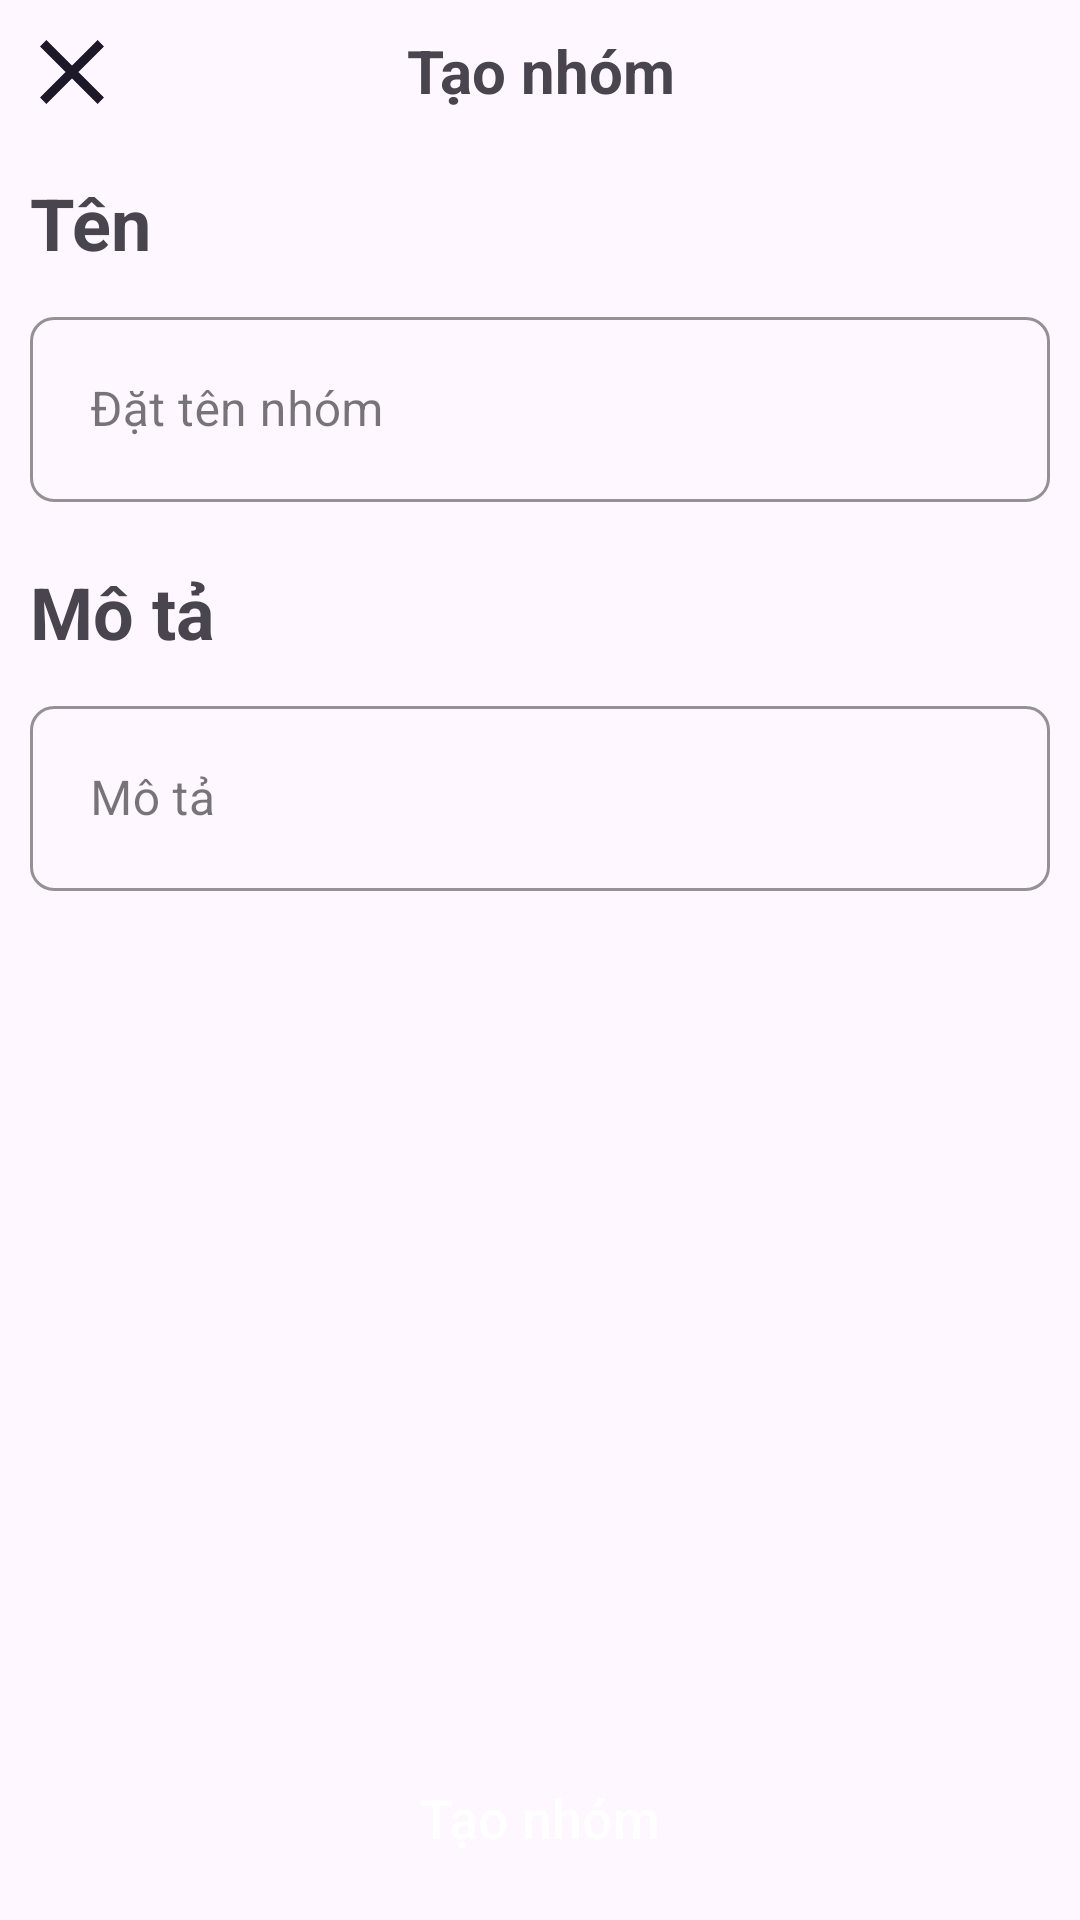

Icon click points for this 1080px×1920px phone screenshot, format (x=x, y=y):
exit: (x=72, y=72)
